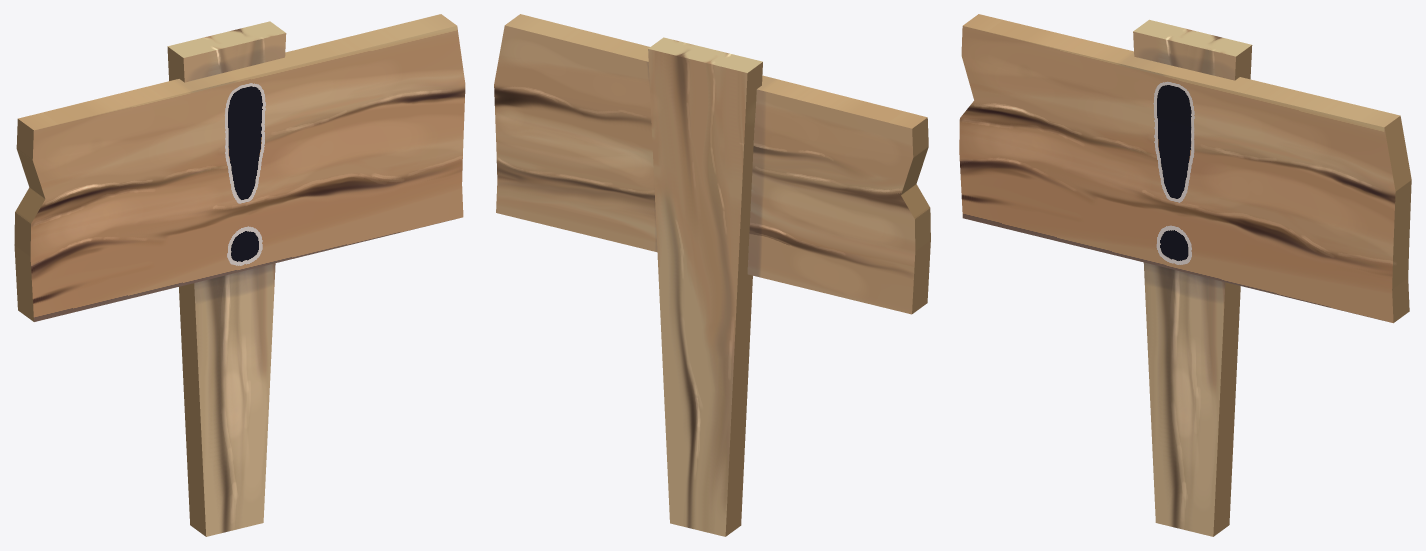
Rendered from sign_caution.gltf.
The picture shows the model from 3 angles, left to right: view 1: azimuth 30°, elevation 25°; view 2: azimuth 150°, elevation 25°; view 3: azimuth 330°, elevation 25°; orthographic projection. The views are drawn at different scales.
Parts seen in each view (by area): view 1: SignCautionMesh; view 2: SignCautionMesh; view 3: SignCautionMesh.
Boxes of the visible parts, left/top/right/bottom form: SignCautionMesh: left=14, top=14, right=465, bottom=536; SignCautionMesh: left=494, top=14, right=930, bottom=536; SignCautionMesh: left=959, top=14, right=1411, bottom=536.
Size of what is drawn, in the model's own units: 1.03 by 1.09 by 0.1131.
Materials: 1 (1 with a texture image).
